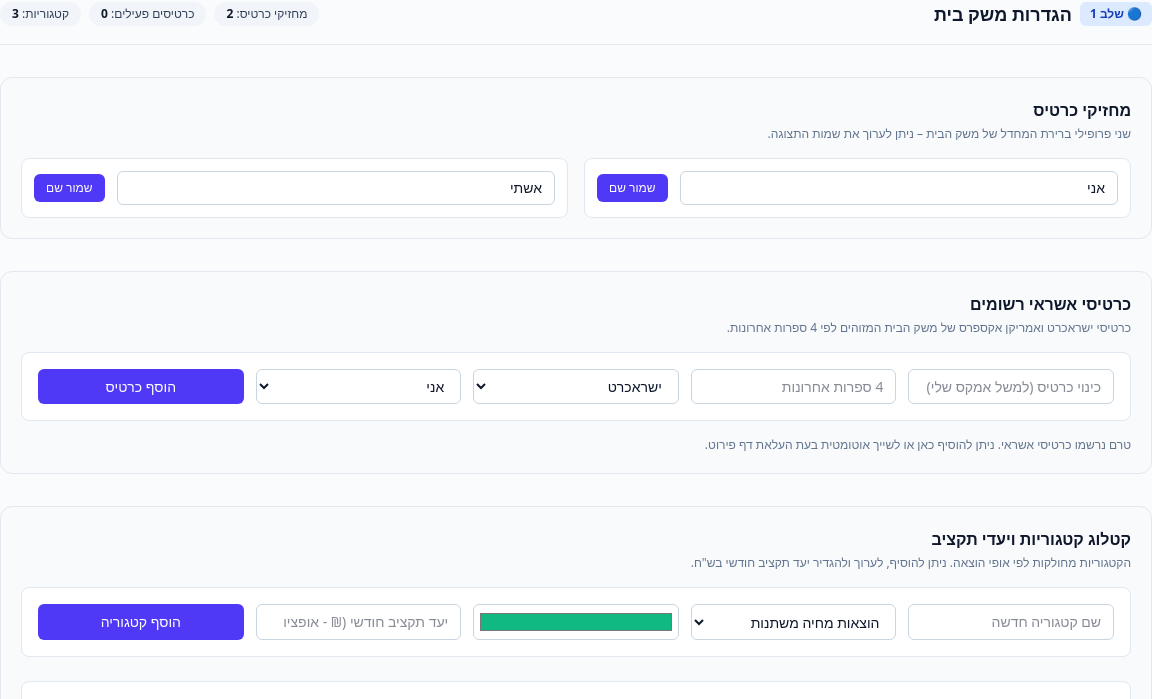
Test: HouseholdSettings Component › creates a new Category with positive budget target when submitted
In the field labelled "שם קטגוריה חדשה": (1011, 622) left=908, top=604, right=1114, bottom=640, type "בדיקת יעד תקציב"
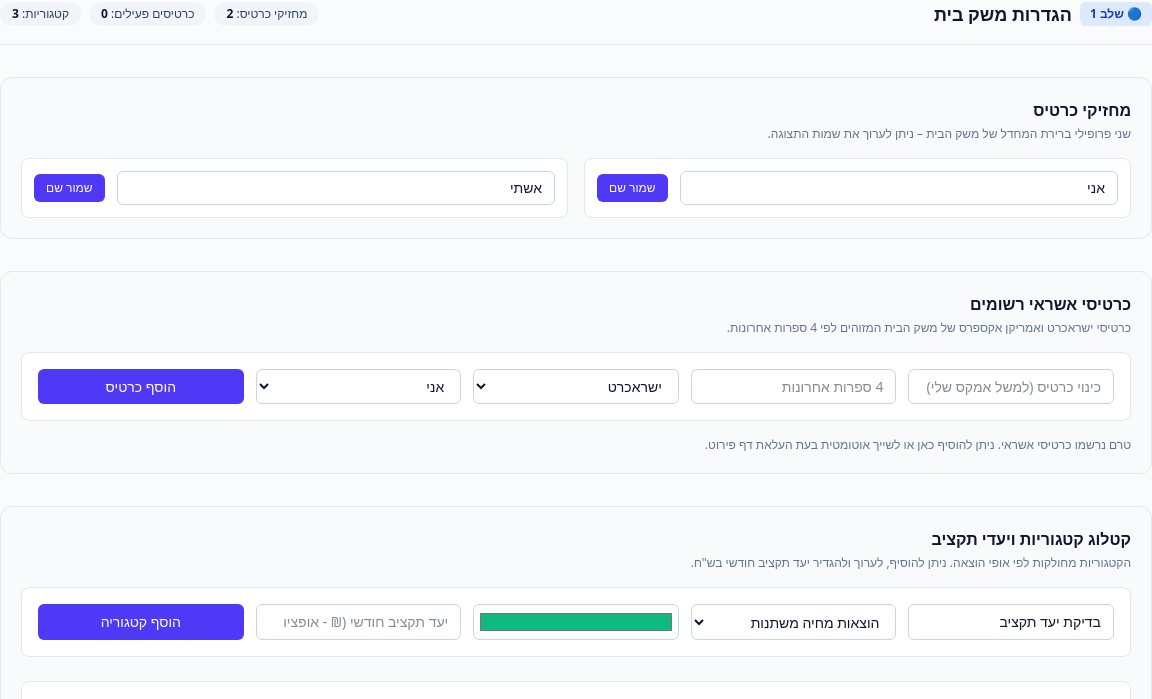
In the number field named "יעד תקציב חודשי לקטגוריה חדשה": (358, 622) left=256, top=604, right=461, bottom=640, type "1500"
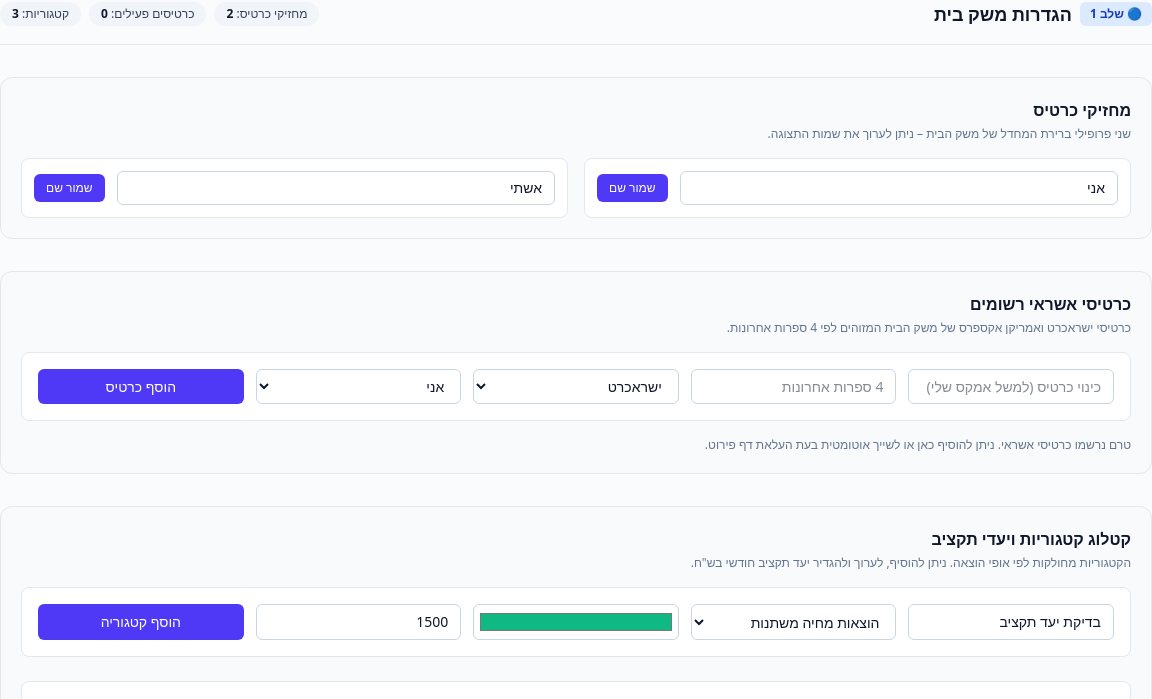
Click the button "הוסף קטגוריה": (141, 622) left=38, top=604, right=244, bottom=640
(page scrolled)
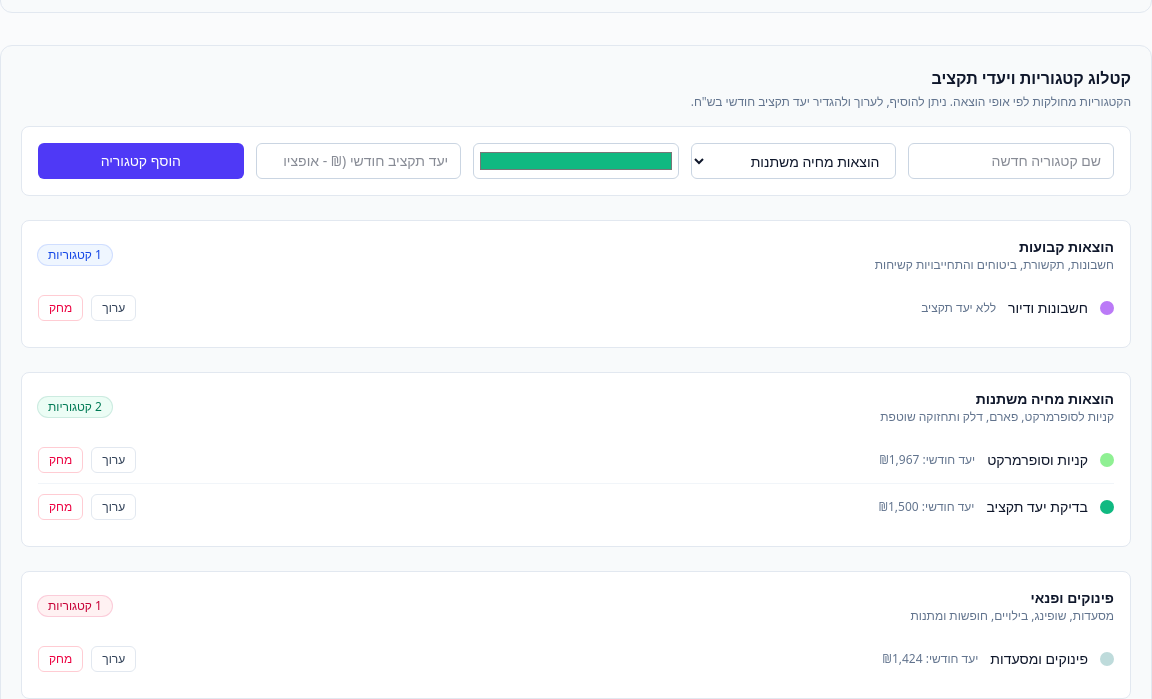
Result: the text "בדיקת יעד תקציב" is shown at left=986, top=497, right=1088, bottom=517
Result: the text "יעד חודשי: ₪1,500" is shown at left=878, top=499, right=974, bottom=515
